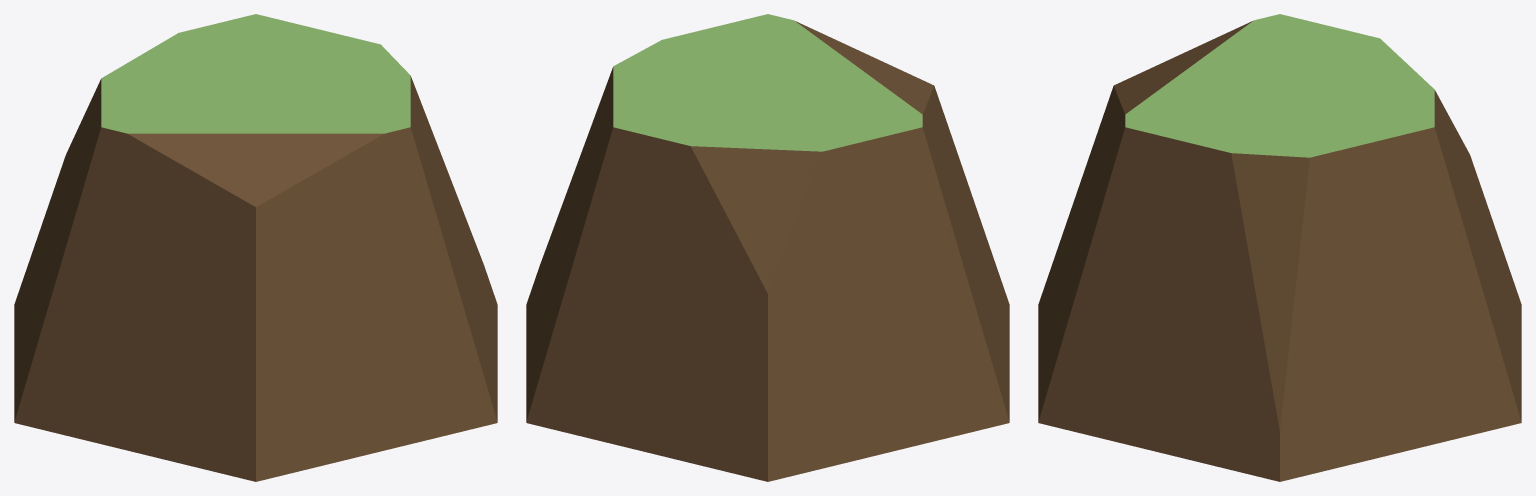
The model's file is rock-small-d.glb.
The picture shows the model from 3 angles, left to right: view 1: azimuth 30°, elevation 25°; view 2: azimuth 150°, elevation 25°; view 3: azimuth 270°, elevation 25°; orthographic projection.
Parts seen in each view (by area): view 1: rock_smallD; view 2: rock_smallD; view 3: rock_smallD.
Part boxes in pixels (left/top/right/bottom): rock_smallD: left=14, top=14, right=497, bottom=481; rock_smallD: left=526, top=14, right=1009, bottom=481; rock_smallD: left=1038, top=14, right=1521, bottom=481.
Bounding box in the file's own units: 0.3688 × 0.2 × 0.3194.
